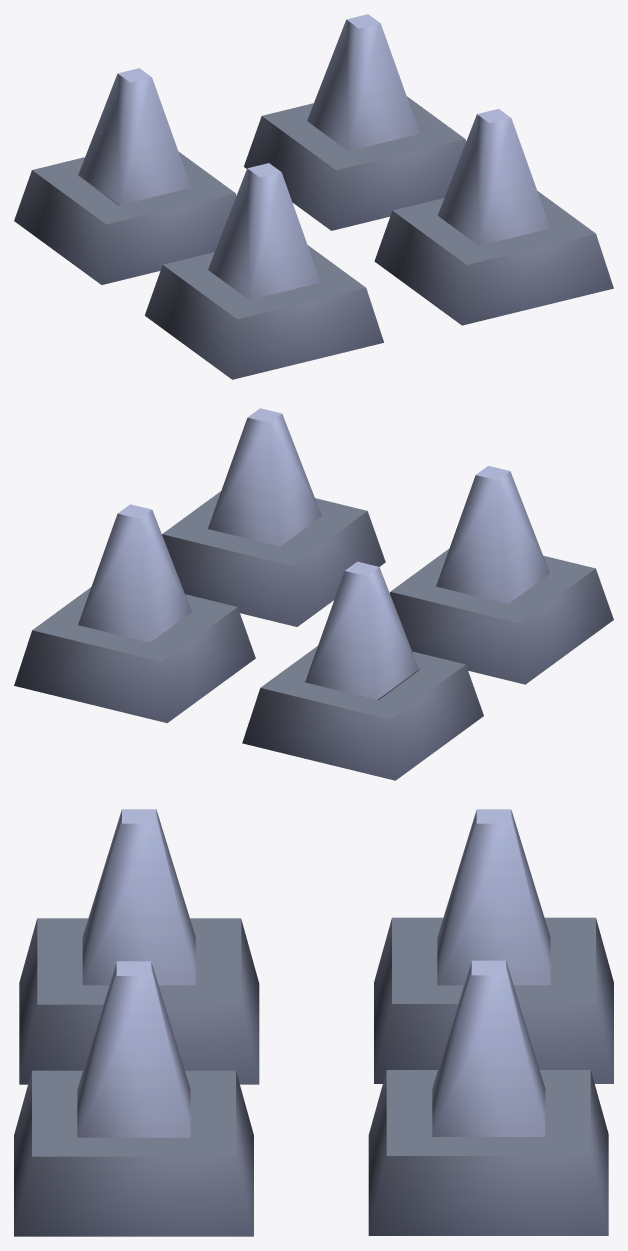
Rendered from kenney-platformer-trap-spikes.glb.
3 renders of one model, top to bottom at view 1: azimuth 30°, elevation 25°; view 2: azimuth 150°, elevation 25°; view 3: azimuth 270°, elevation 25°, orthographic. The views are drawn at different scales.
Visible parts, largest first — view 1: trap-spikes, spikes; view 2: trap-spikes, spikes; view 3: trap-spikes, spikes.
Boxes of the visible parts, x1,y1,x2,y2 form: trap-spikes: (14, 96, 613, 379); spikes: (78, 14, 550, 299); trap-spikes: (14, 491, 613, 780); spikes: (78, 408, 549, 699); trap-spikes: (14, 917, 613, 1236); spikes: (77, 809, 550, 1137).
Size of the model in its own units: 0.6392 by 0.255 by 0.6375.
1 material, 1 textured.
